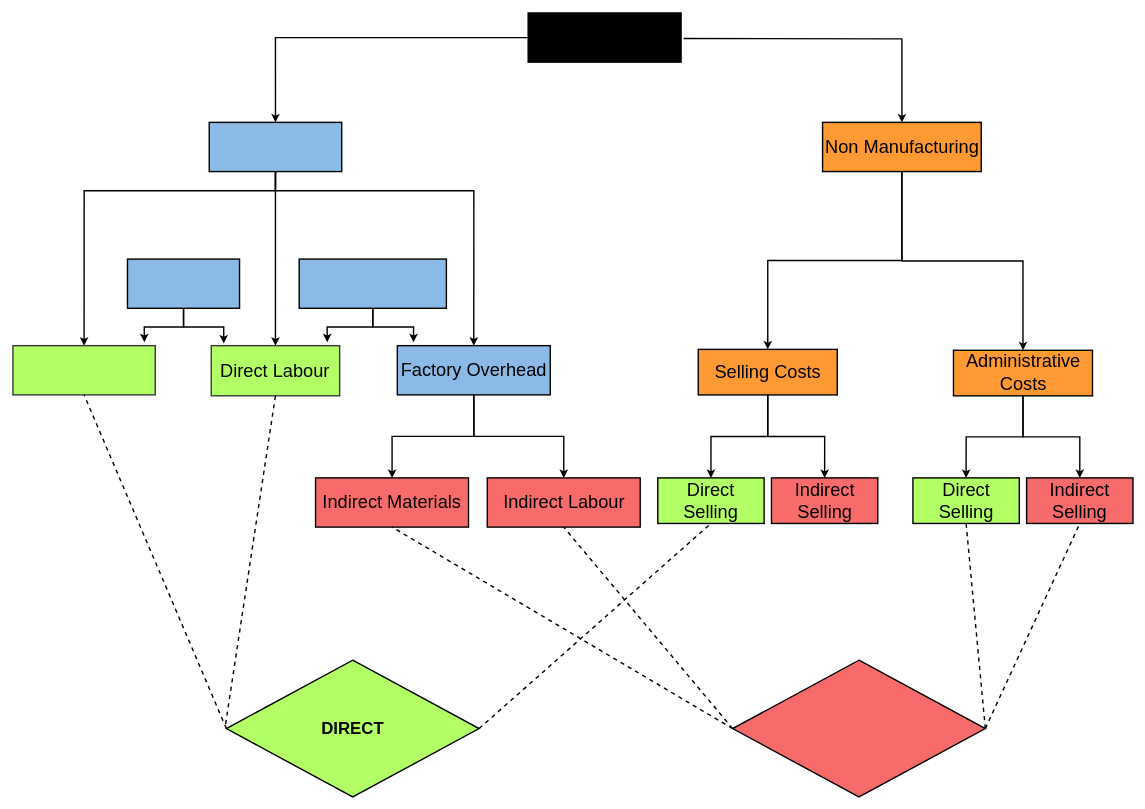
The diagram is 1145 pixels wide and 809 high, and some of its shapes have lost their labels. Here are the shapes that lost their labels. From the top down, the centre of each, then its label:
At pixel 604 37: "Cost".
At pixel 275 146: "Manufacturing".
At pixel 183 283: "Prime Cost".
At pixel 372 283: "Conversion Costs".
At pixel 84 370: "Direct Materials".
At pixel 859 728: "INDIRECT (OVERHEAD)".
